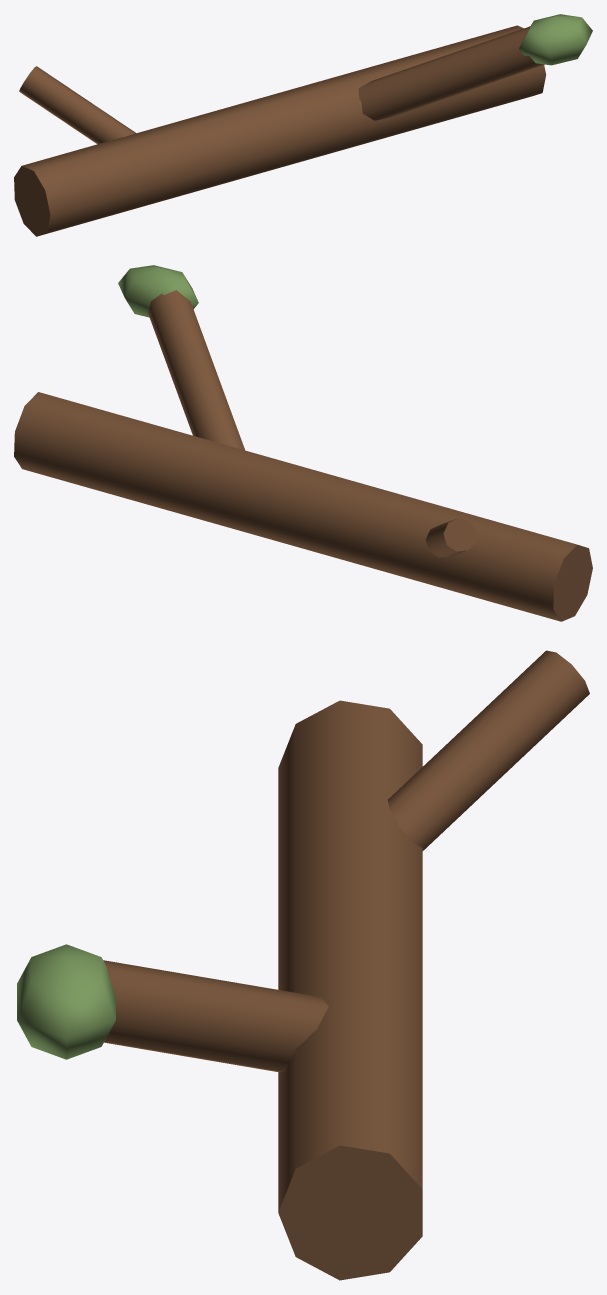
The model's file is branch.glb.
The picture shows the model from 3 angles, top to bottom: view 1: azimuth 30°, elevation 25°; view 2: azimuth 150°, elevation 25°; view 3: azimuth 270°, elevation 25°; orthographic projection. The views are drawn at different scales.
Visible parts, largest first — view 1: Stem, Bud; view 2: Stem, Bud; view 3: Stem, Bud.
Boxes of the visible parts, x1=… form: Stem: x1=14, y1=25, x2=546, y2=236; Bud: x1=518, y1=14, x2=592, y2=65; Stem: x1=14, y1=290, x2=592, y2=621; Bud: x1=118, y1=265, x2=198, y2=317; Stem: x1=103, y1=650, x2=589, y2=1280; Bud: x1=17, y1=944, x2=115, y2=1059.
Size of the model in its own units: 0.8038 by 0.2462 by 0.4005.
